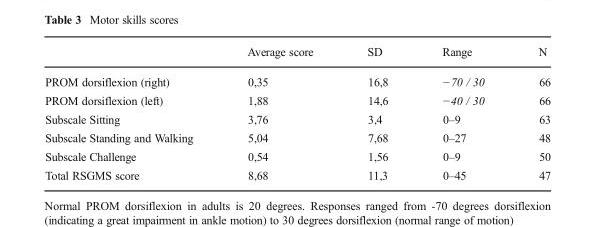table: (44, 44, 549, 181)
table column: (44, 44, 219, 181), (219, 44, 339, 181), (414, 44, 510, 181), (339, 44, 414, 181), (510, 44, 549, 181)
table column header: (44, 44, 549, 65)
table row: (44, 65, 549, 90), (44, 44, 549, 65), (44, 90, 549, 109), (44, 109, 549, 128), (44, 146, 549, 165), (44, 128, 549, 146), (44, 165, 549, 181)
